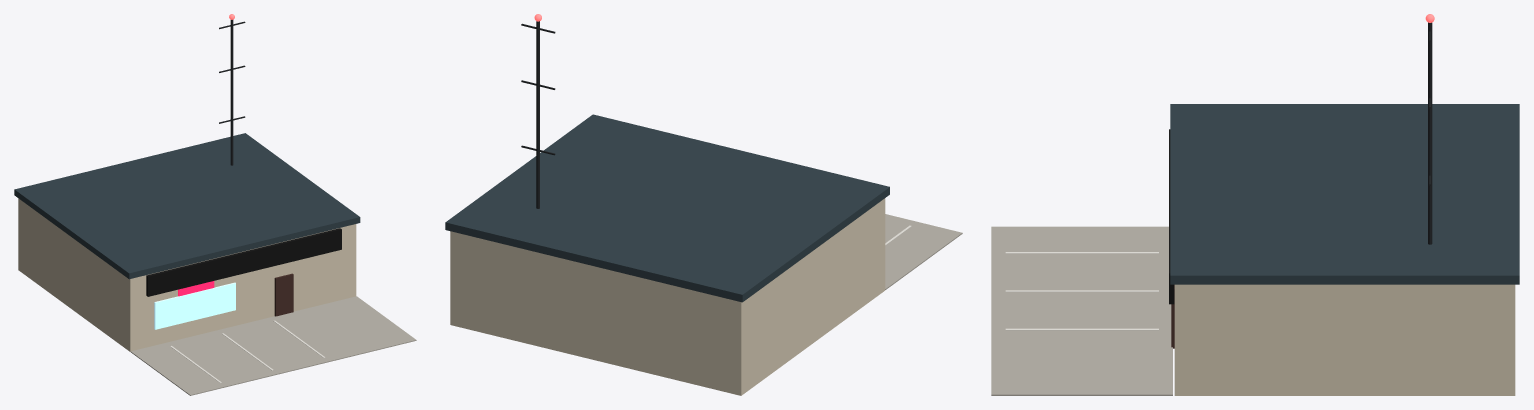
The model's file is town_mw_carbase.glb.
The picture shows the model from 3 angles, left to right: view 1: azimuth 30°, elevation 25°; view 2: azimuth 150°, elevation 25°; view 3: azimuth 270°, elevation 25°; orthographic projection. The views are drawn at different scales.
Parts seen in each view (by area): view 1: TownMwCarbase_body; view 2: TownMwCarbase_body; view 3: TownMwCarbase_body.
Boxes of the visible parts, x1,y1,x2,y2 form: TownMwCarbase_body: [14, 14, 416, 395]; TownMwCarbase_body: [445, 14, 962, 395]; TownMwCarbase_body: [991, 14, 1519, 395].
Bounding box in the file's own units: 14.3 × 13.66 × 18.6.
